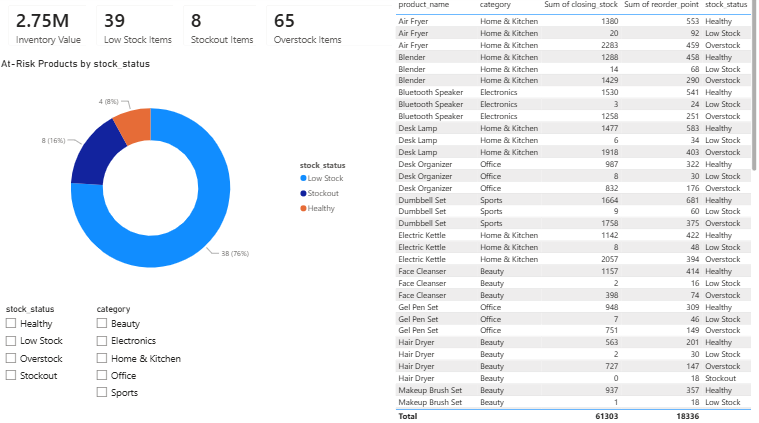

The dashboard page shown, as its layout file describes it:
{"tool":"powerbi","page":{"name":"Inventory Risks","canvas":[1280,720],"ordinal":1},"visuals":[{"type":"cardVisual","fields":{"Data":["_Measures.Inventory Value"]},"box":[0,0,194.9,102.5],"z":0},{"type":"cardVisual","fields":{"Data":["_Measures.Low Stock Items"]},"box":[147.8,0,178.1,102.5],"z":1000},{"type":"cardVisual","fields":{"Data":["_Measures.Stockout Items"]},"box":[294,0,280.5,102.5],"z":2000},{"type":"cardVisual","fields":{"Data":["_Measures.Overstock Items"]},"box":[433.4,0,280.5,102.5],"z":3000},{"type":"tableEx","fields":{"Values":["products.product_name","products.category","Sum(inventory_snapshot.closing_stock)","Sum(inventory_snapshot.reorder_point)","inventory_snapshot.stock_status"]},"box":[661.8,0,618.2,720.6],"z":4000},{"type":"donutChart","fields":{"Category":["inventory_snapshot.stock_status"],"Y":["_Measures.At-Risk Products"]},"box":[0,104.1,606.4,409.9],"z":5000},{"type":"slicer","fields":{"Values":["products.category"]},"box":[152.9,514,194.9,206.6],"z":6000},{"type":"slicer","fields":{"Values":["inventory_snapshot.stock_status"]},"box":[0,514,129.3,206.6],"z":7000}]}

Visuals, with their boxes in screenshot pixels (x1, y1, x2, y2), scaled from the page's 1280x720 canvas onto the 759x423 screenshot:
cardVisual - _Measures.Inventory Value: <box>0,0,116,60</box>
cardVisual - _Measures.Low Stock Items: <box>88,0,193,60</box>
cardVisual - _Measures.Stockout Items: <box>174,0,341,60</box>
cardVisual - _Measures.Overstock Items: <box>257,0,423,60</box>
tableEx - products.product_name x products.category: <box>392,0,758,422</box>
donutChart - inventory_snapshot.stock_status x _Measures.At-Risk Products: <box>0,61,360,302</box>
slicer - products.category: <box>91,302,206,422</box>
slicer - inventory_snapshot.stock_status: <box>0,302,77,422</box>
